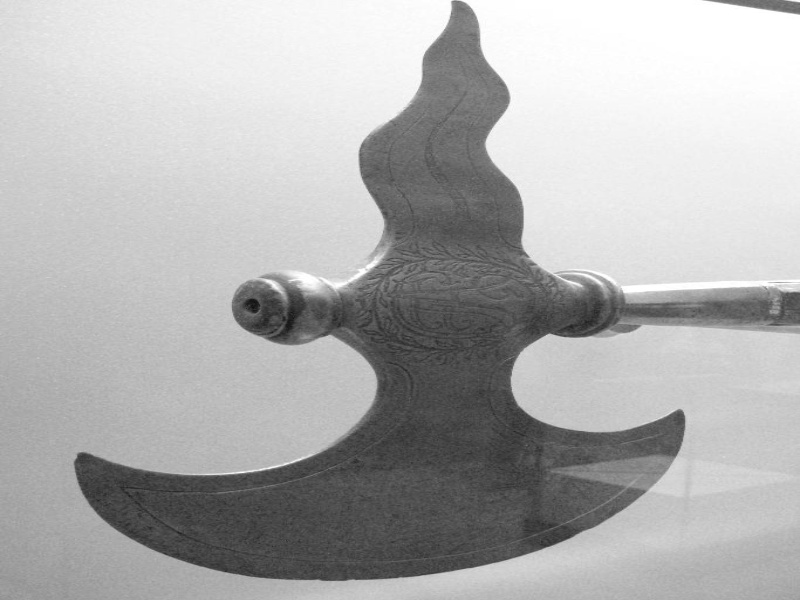axe: (72, 2, 700, 584)
